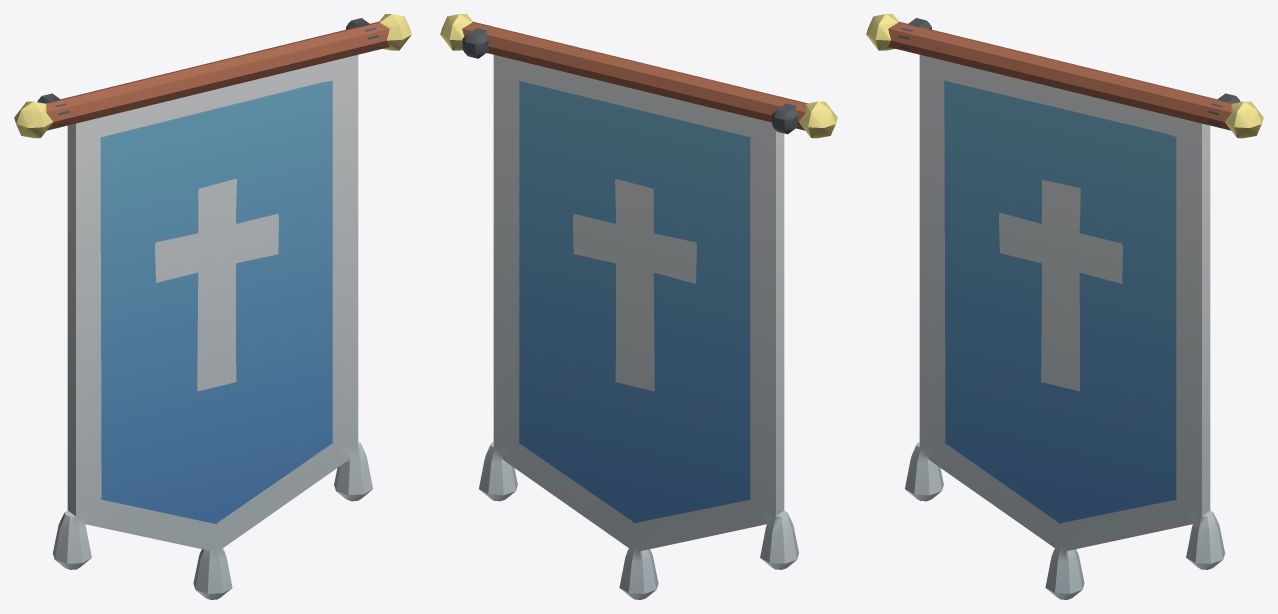
File: tapestry_blue.glb
3 renders of one model, left to right at view 1: azimuth 30°, elevation 25°; view 2: azimuth 150°, elevation 25°; view 3: azimuth 330°, elevation 25°, orthographic.
Visible parts, largest first — view 1: tapestry_blue; view 2: tapestry_blue; view 3: tapestry_blue.
Part boxes in pixels (x1=…): tapestry_blue: x1=14, y1=14, x2=411, y2=599; tapestry_blue: x1=440, y1=14, x2=837, y2=599; tapestry_blue: x1=866, y1=14, x2=1263, y2=599.
Bounding box in the file's own units: 2.24 × 2.93 × 0.24.
Materials: 1 (1 with a texture image).
